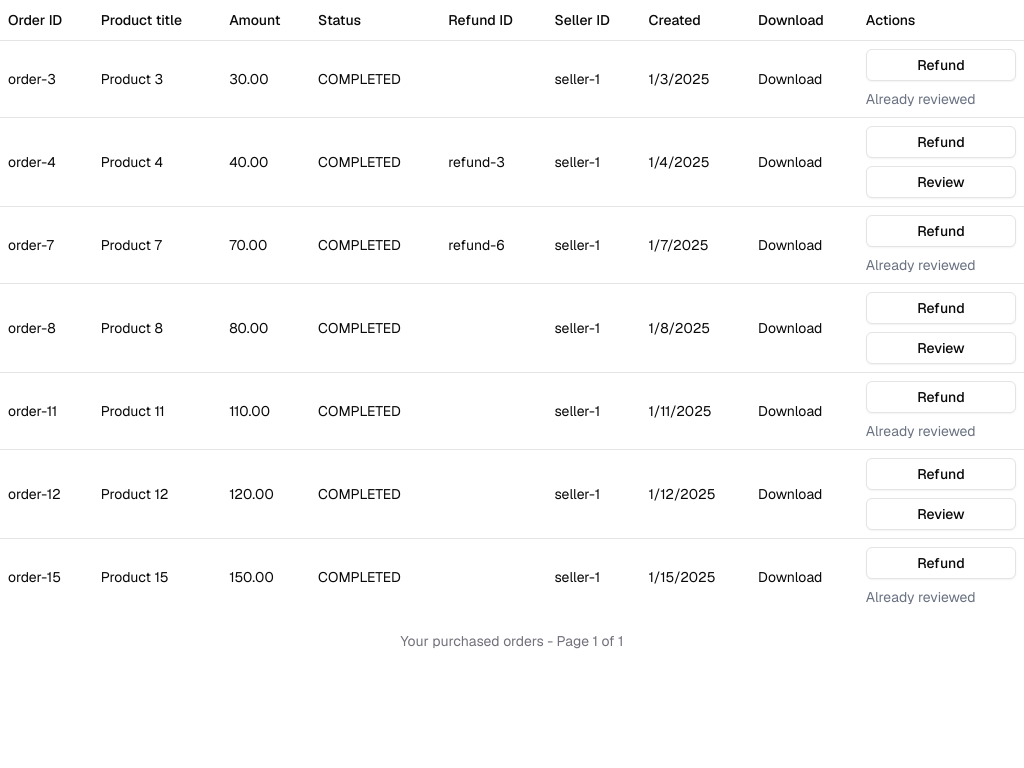
Test case: BoughtProductsTable › opens refund dialog when refund button is clicked
Note: Find and click refund button for completed order
Click the button "Refund" in the row of "order-3": [941, 64] box [866,48,1016,80]
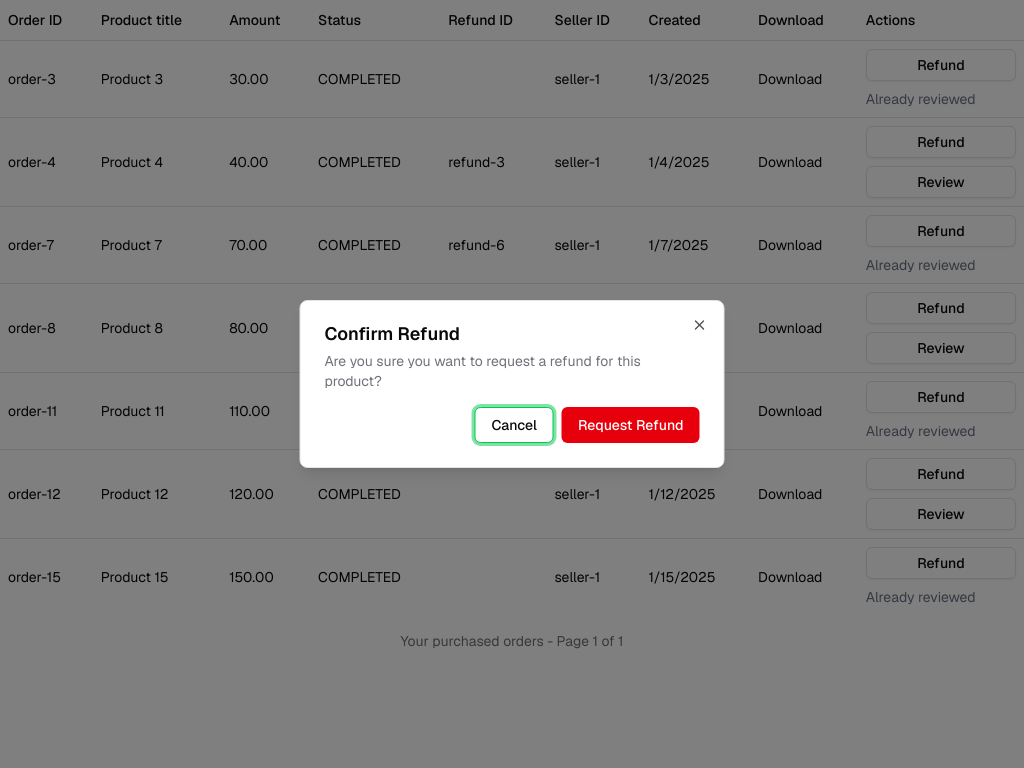
Expected: the heading "Confirm Refund" is shown, [324,322,460,345]
Expected: the text "Are you sure you want to request a refund for this product?" is shown, [324,352,641,390]
